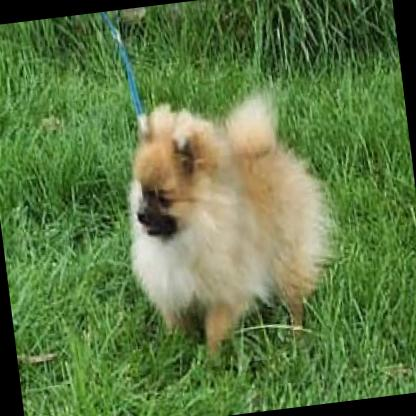Pomeranian: (110, 79, 344, 366)
